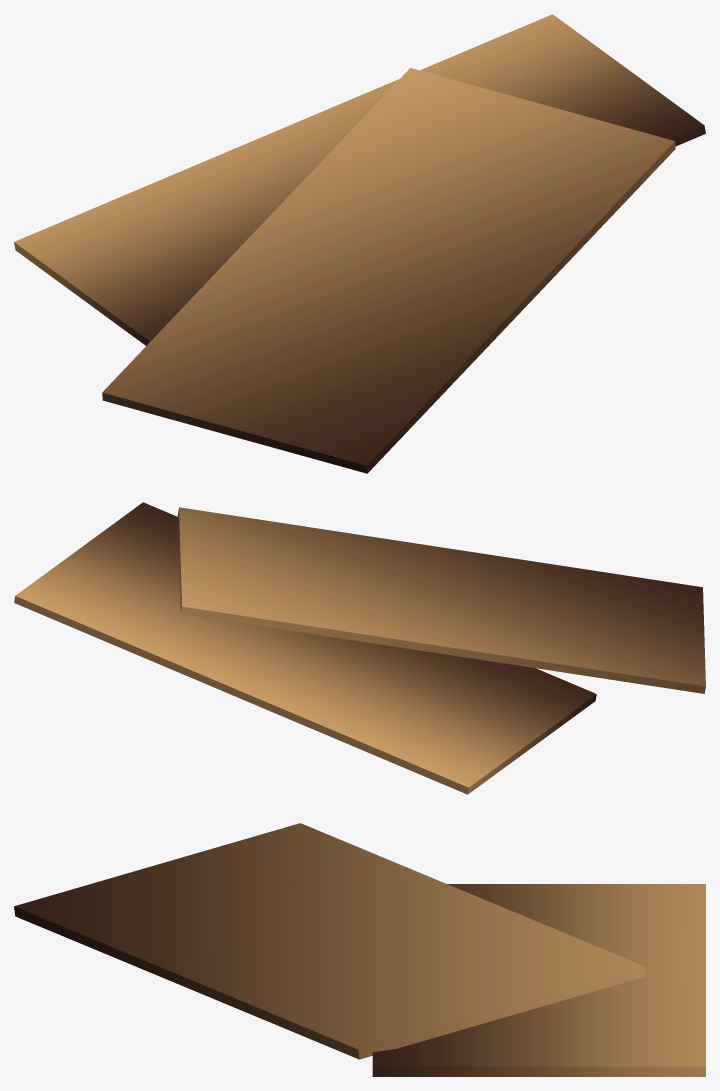
Rendered from Cardboard.FBX.
3 views of the same model, one above another, from view 1: azimuth 30°, elevation 25°; view 2: azimuth 150°, elevation 25°; view 3: azimuth 270°, elevation 25° (orthographic). The views are drawn at different scales.
Parts seen in each view (by area): view 1: Trash; view 2: Trash; view 3: Trash.
Part boxes in pixels (left/top/right/bottom): Trash: left=14, top=14, right=705, bottom=473; Trash: left=14, top=502, right=705, bottom=794; Trash: left=14, top=823, right=705, bottom=1076.
Size of the model in its own units: 227 by 39.27 by 194.
Materials: 1 (1 with a texture image).
